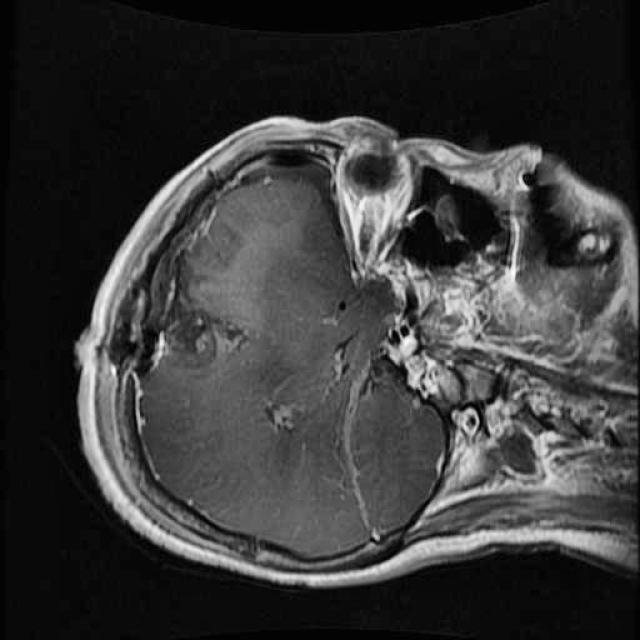Non-Tumor: (118, 226, 262, 396)
